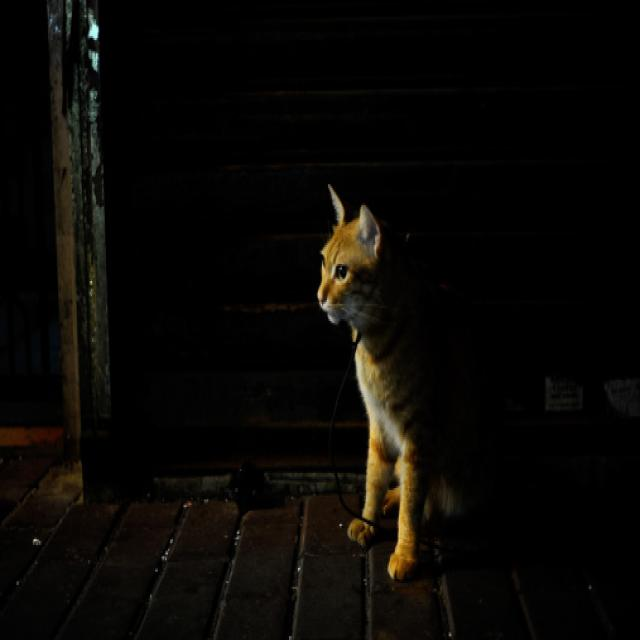Cat: (302, 143, 513, 620)
